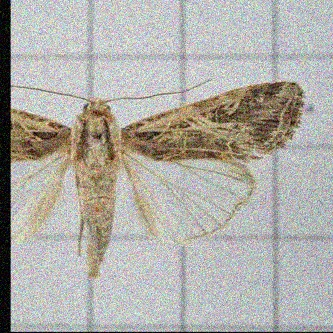Spodoptera litura: (10, 77, 305, 278)
